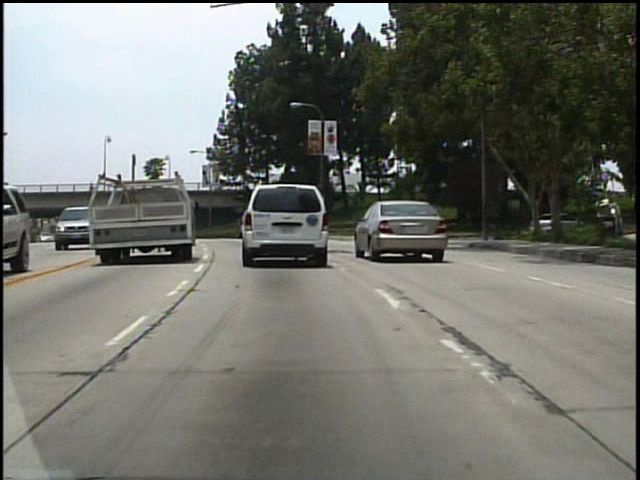person: (85, 177, 96, 197)
